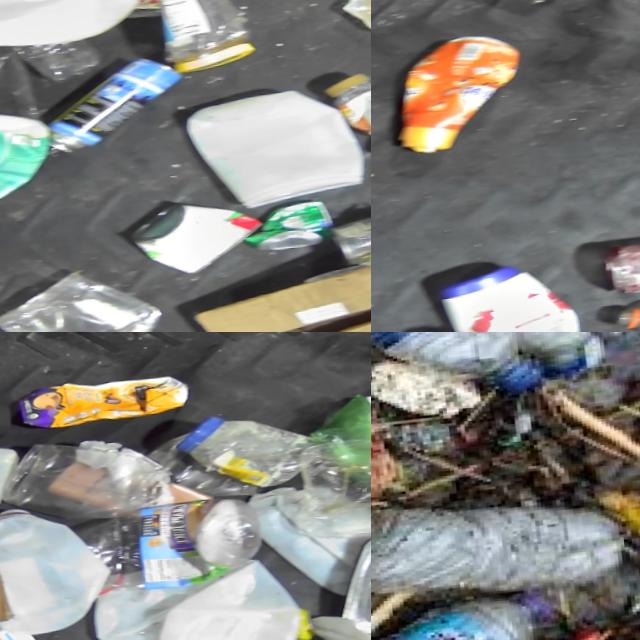can: (129, 201, 244, 275), (243, 203, 331, 261), (341, 210, 371, 267)
milk_jug: (184, 92, 358, 207), (98, 569, 310, 640), (0, 500, 95, 635), (0, 0, 154, 51)
non_white_jug: (0, 102, 55, 210)
plastic_bottle: (371, 481, 624, 623), (371, 332, 547, 428), (444, 332, 610, 386), (149, 0, 251, 73)
